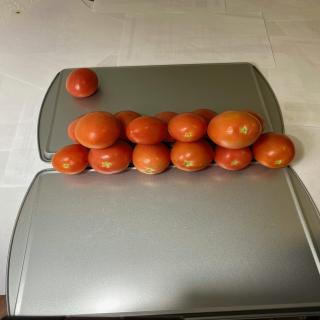Chilli: (51, 108, 296, 175)
Tomato: (207, 110, 262, 149), (75, 111, 121, 149), (252, 132, 296, 168), (170, 138, 214, 172), (88, 140, 132, 174), (126, 116, 168, 145), (132, 143, 171, 174), (168, 112, 208, 142), (51, 144, 89, 174), (65, 68, 98, 98), (214, 144, 252, 170), (114, 110, 142, 140), (154, 111, 178, 142), (240, 109, 266, 134), (67, 114, 85, 144), (192, 108, 218, 124)
